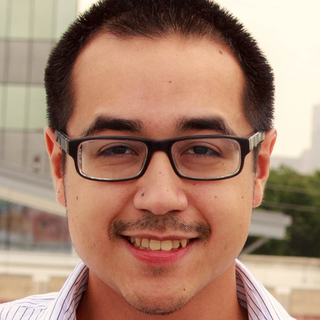eye: (172, 138, 232, 169), (91, 141, 145, 171)
